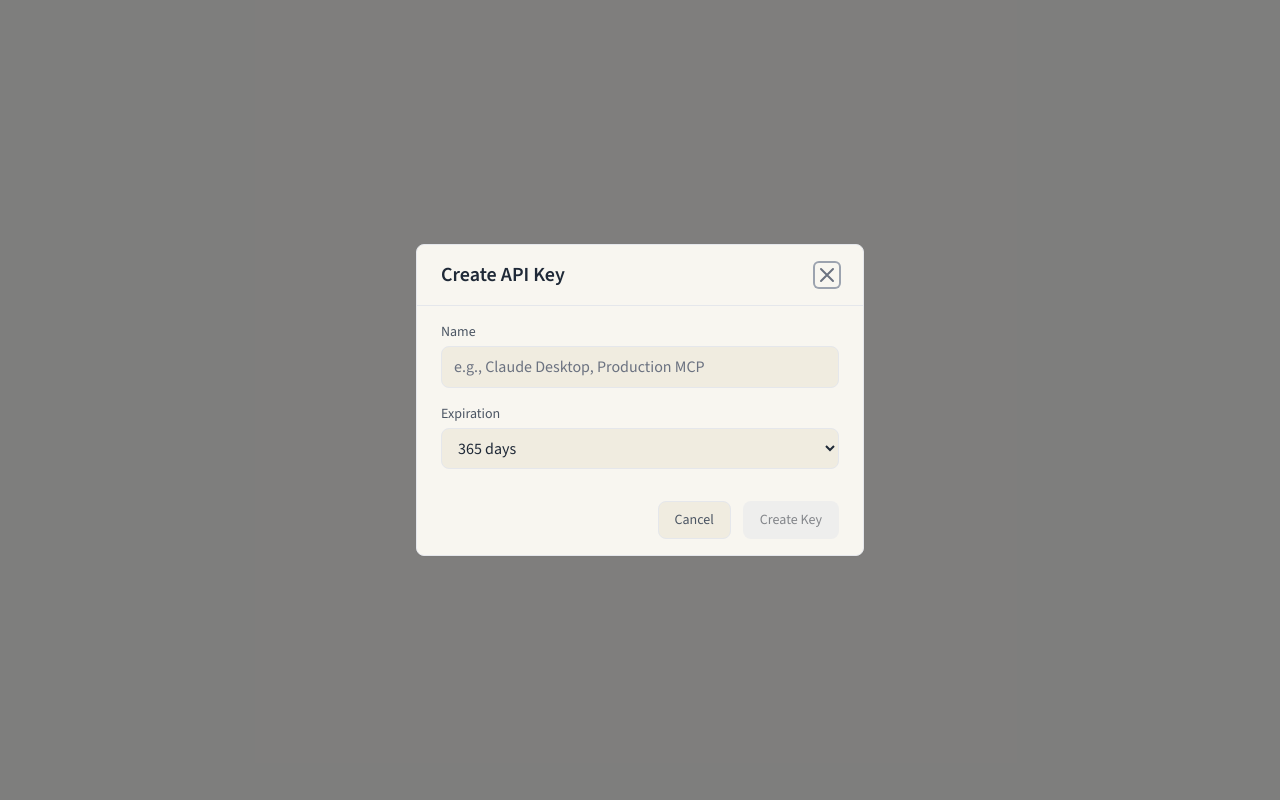
CreateApiKeyModal › shows duplicate-name error message when API returns 409
Type "duplicate-name" into the field labelled "Name" at (640, 367), box [441,346,839,388]
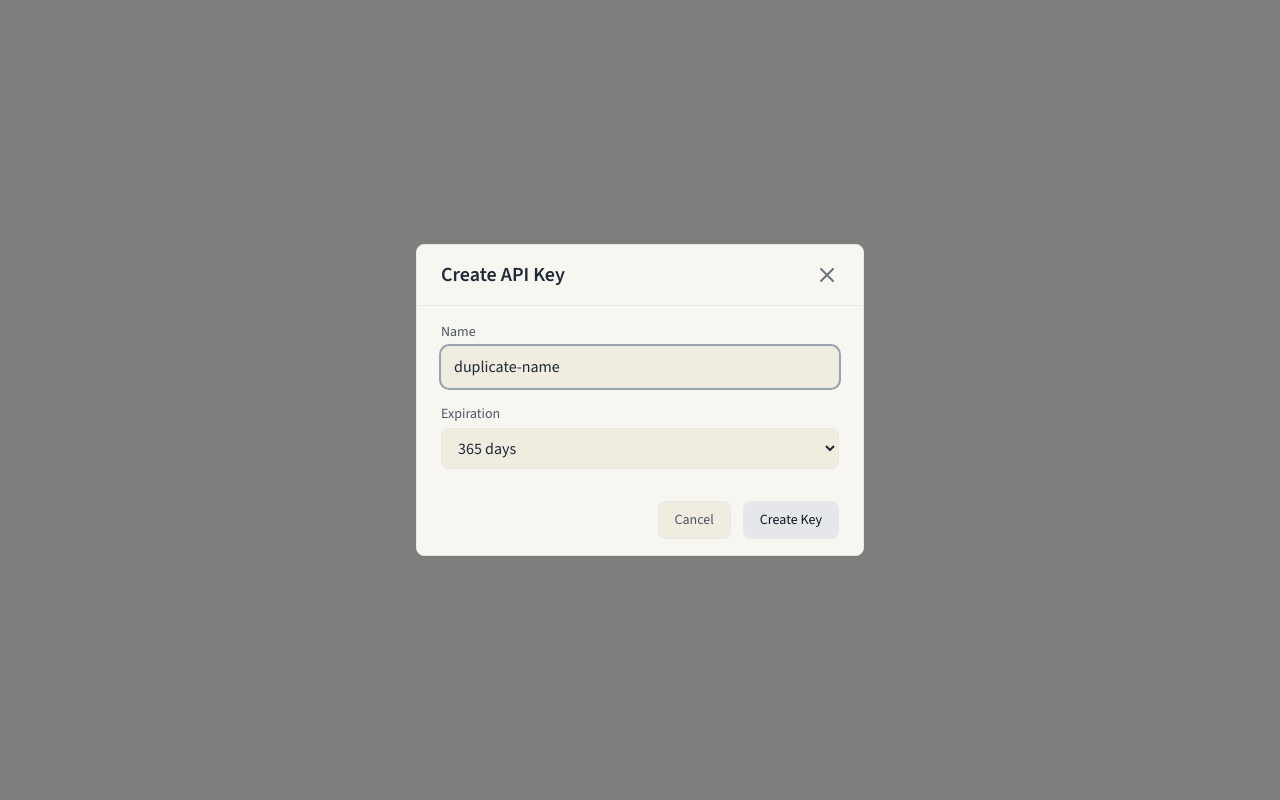
Click the button "Create Key" at (791, 520), box [743,501,839,539]
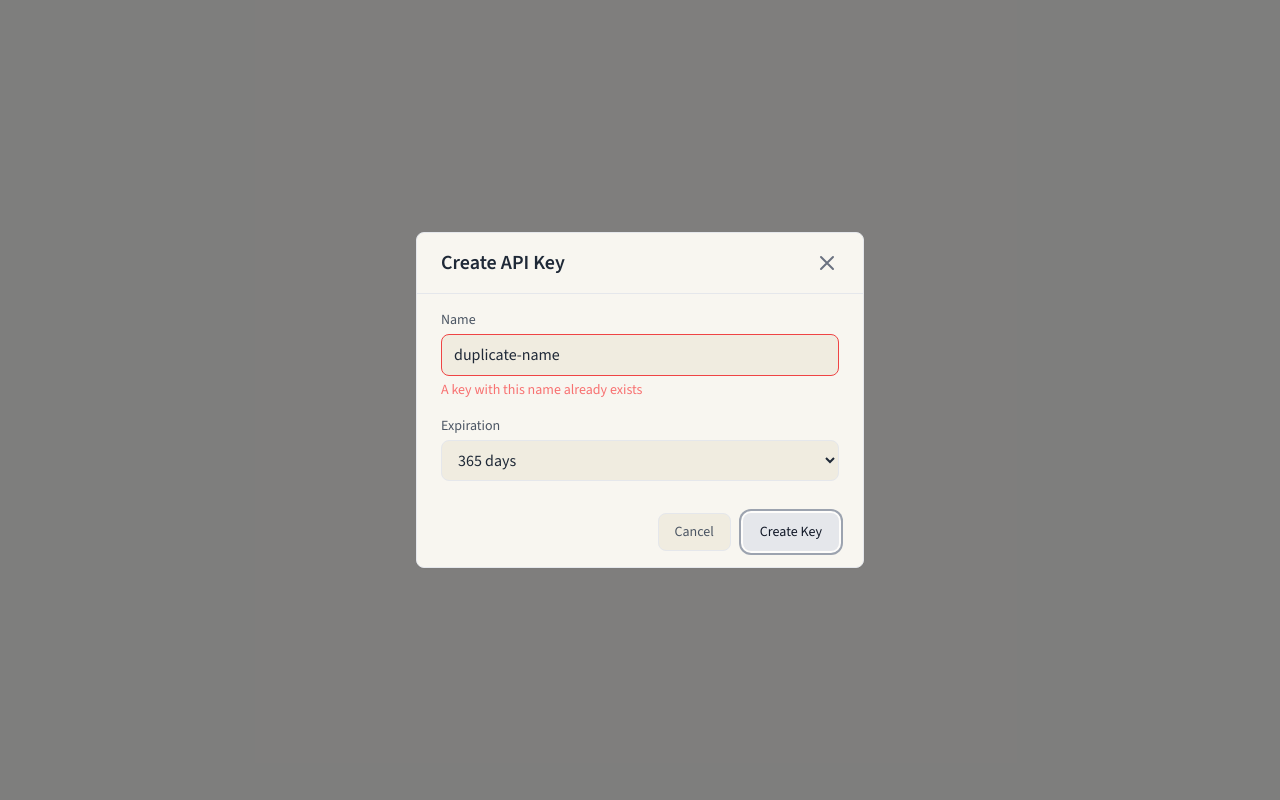
expect the text "A key with this name already exists" is shown: met, box [441,380,642,399]
